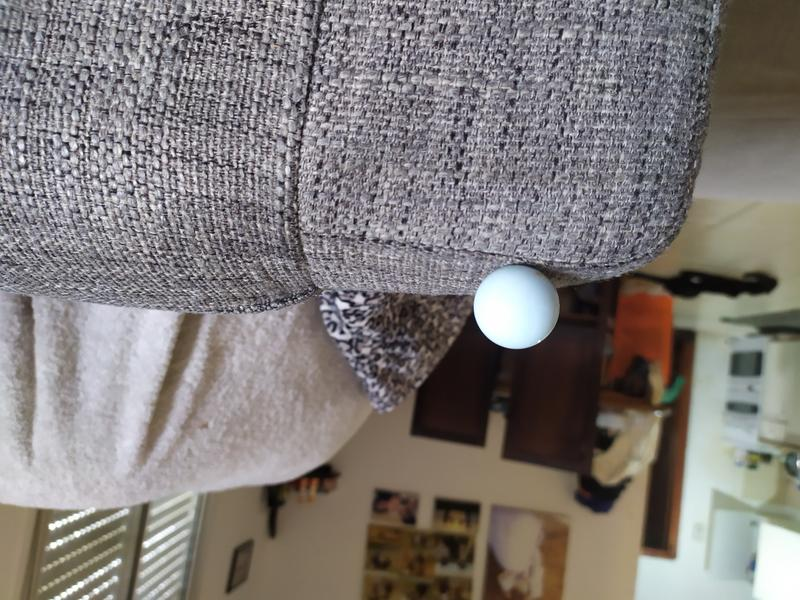Warning: (471, 262, 563, 352)
